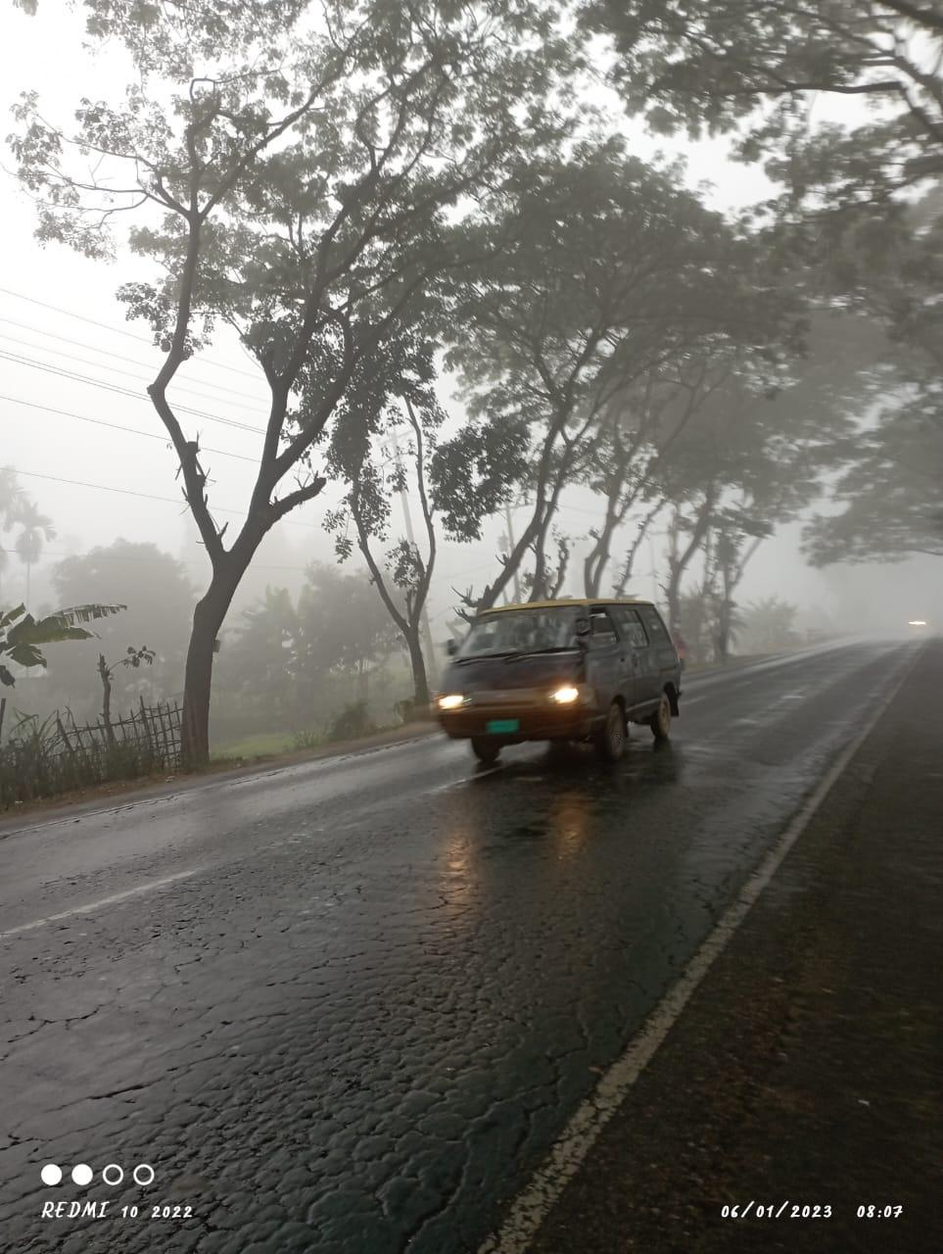Car: (428, 593, 684, 764)
